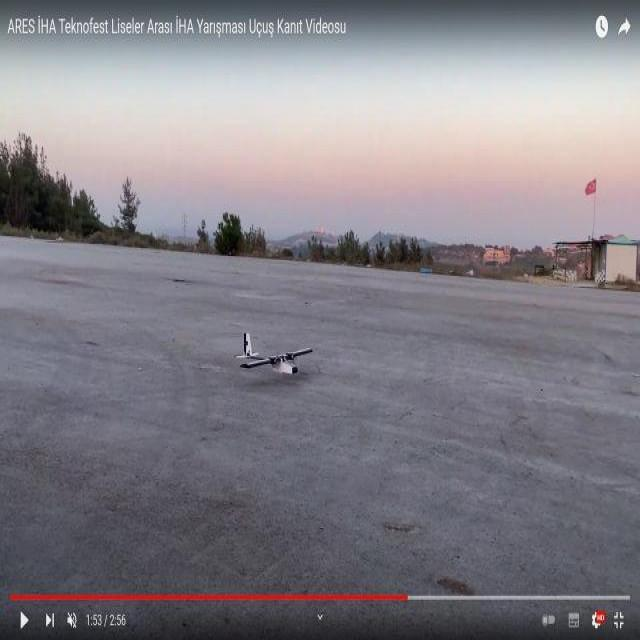UAV: (225, 302, 333, 399)
